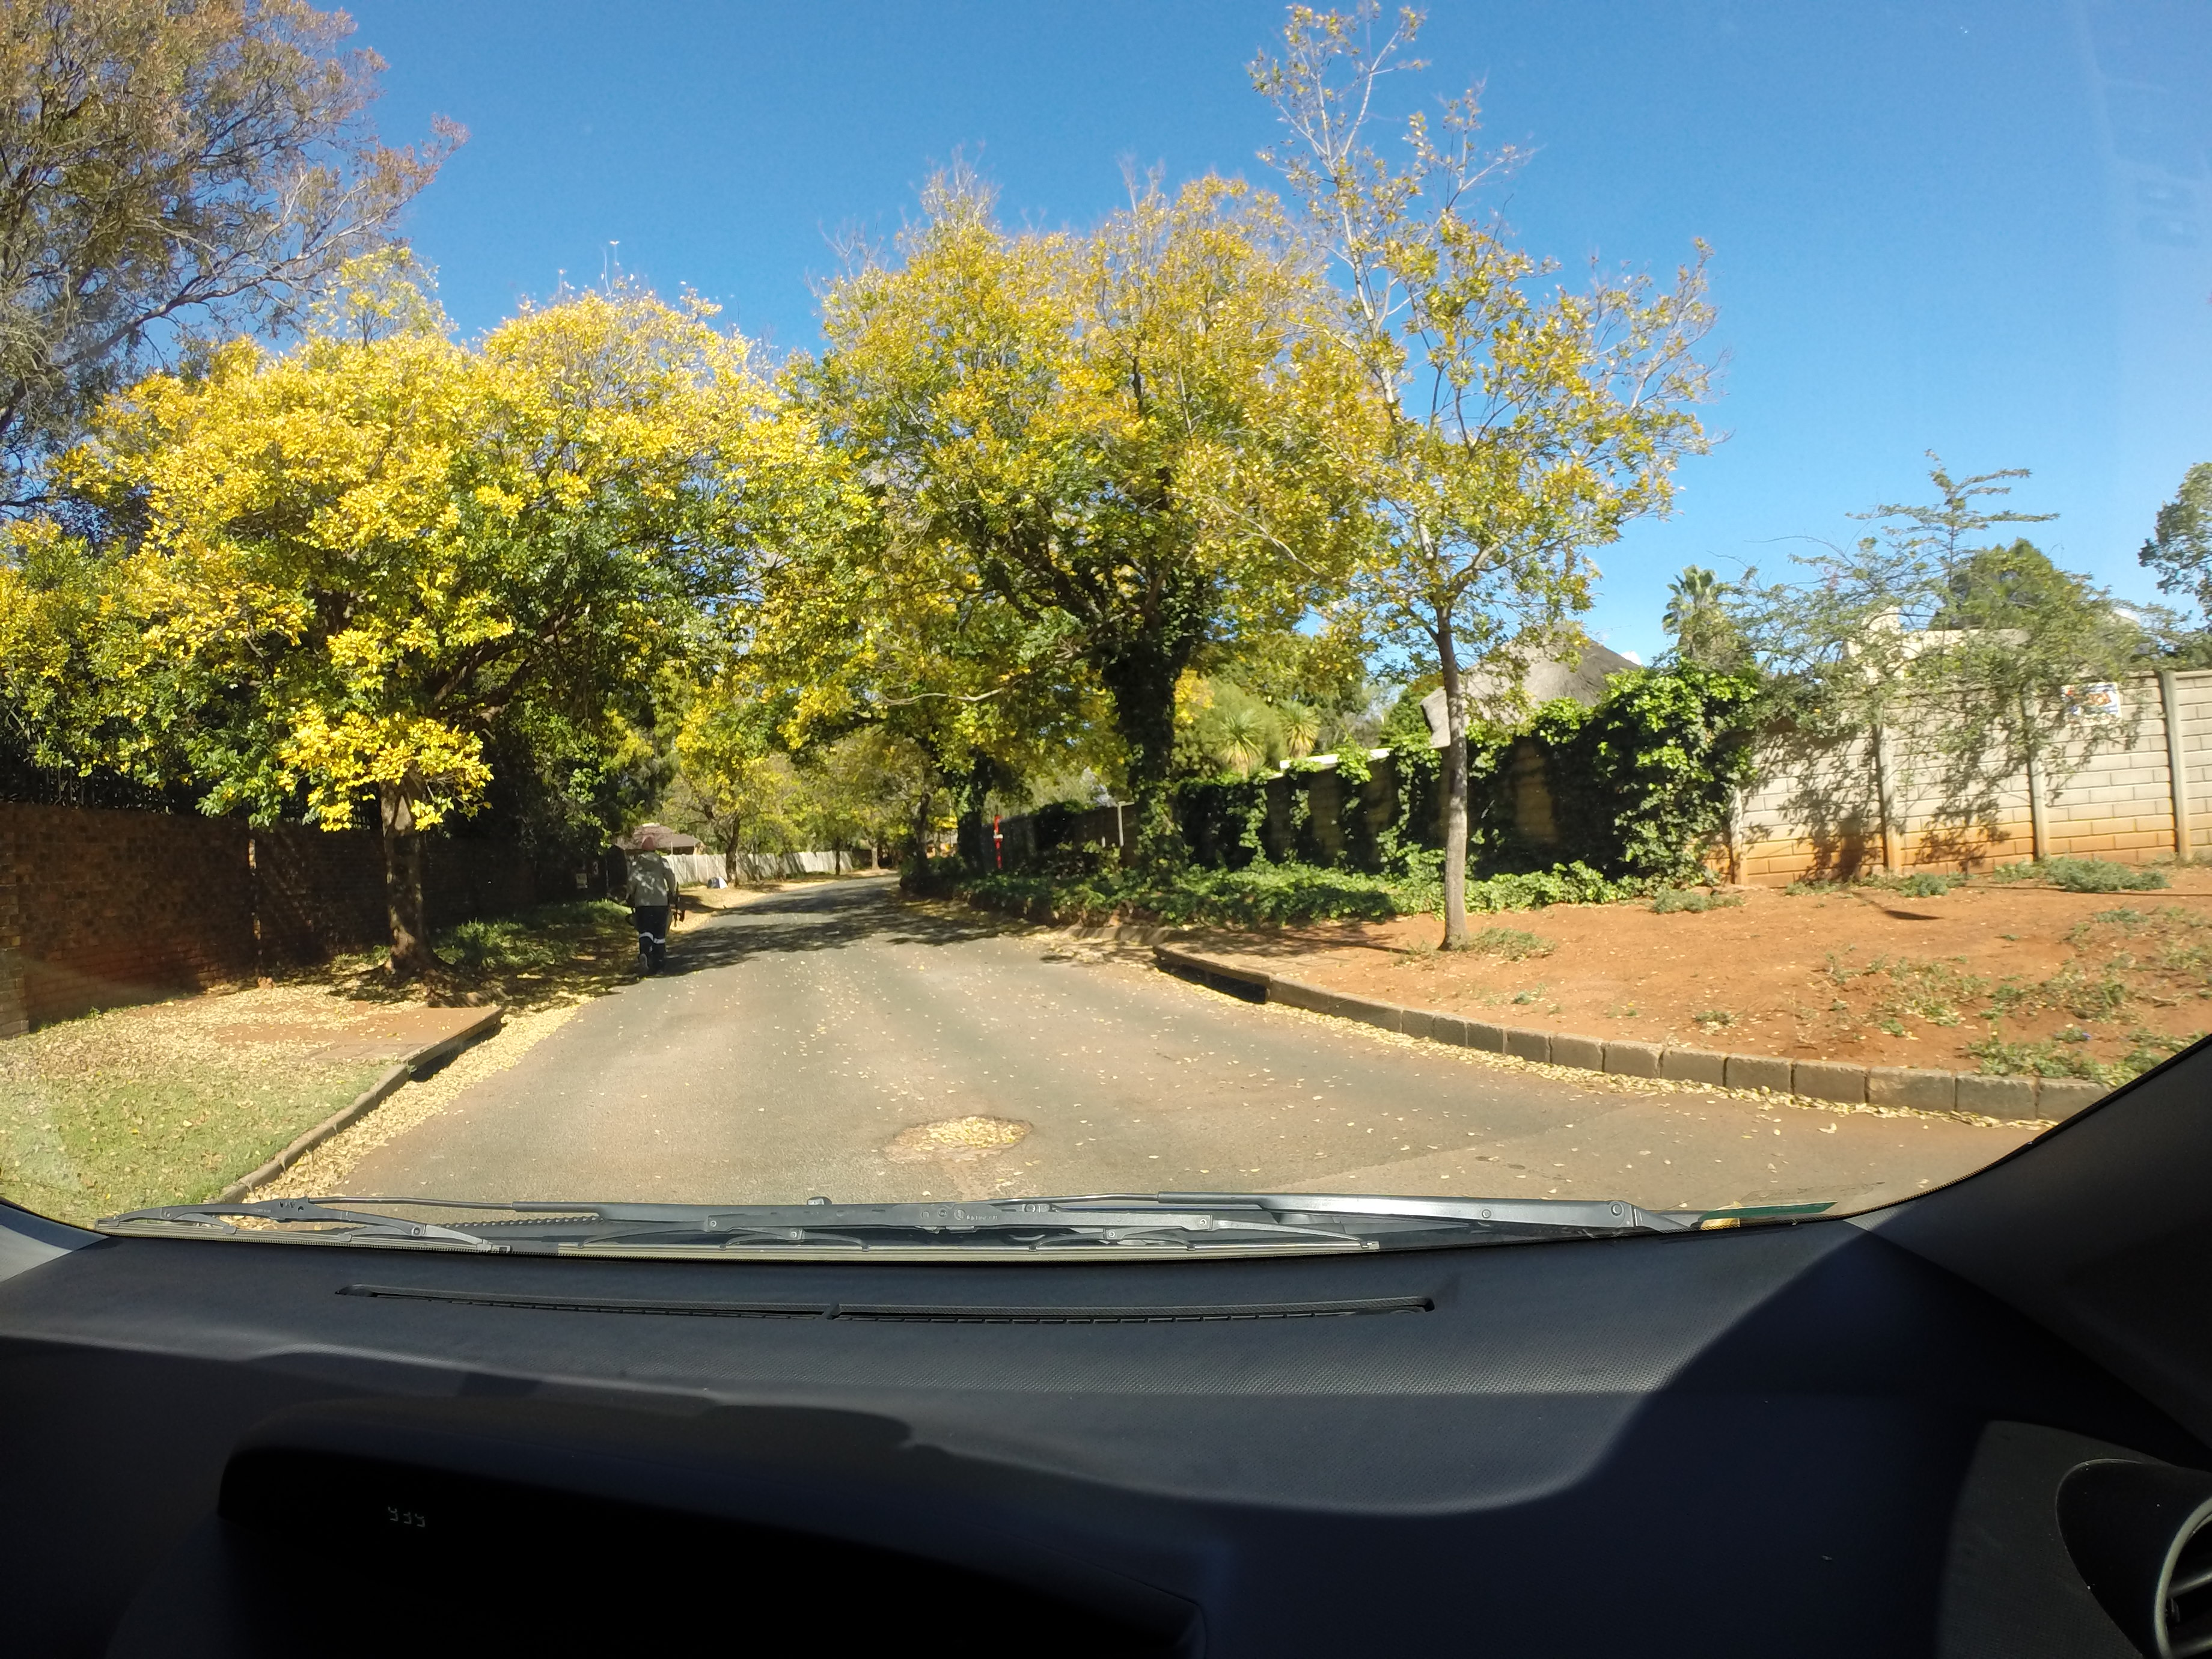pothole: (852, 1089, 1075, 1202)
